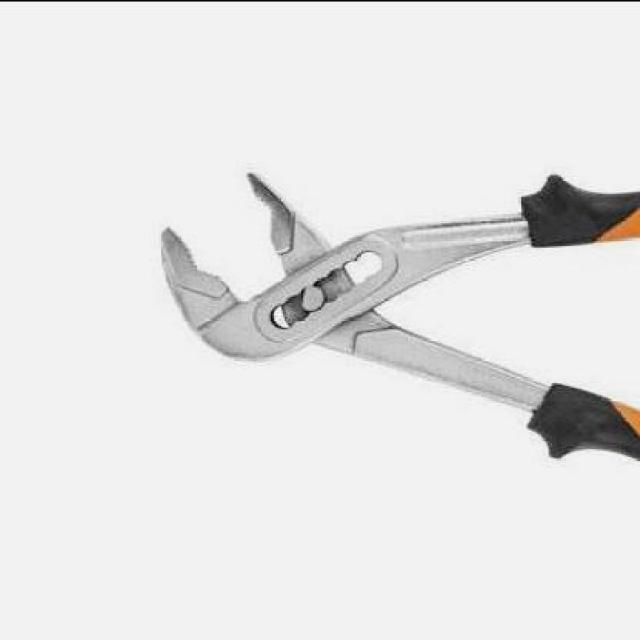pliers: (160, 153, 638, 470)
